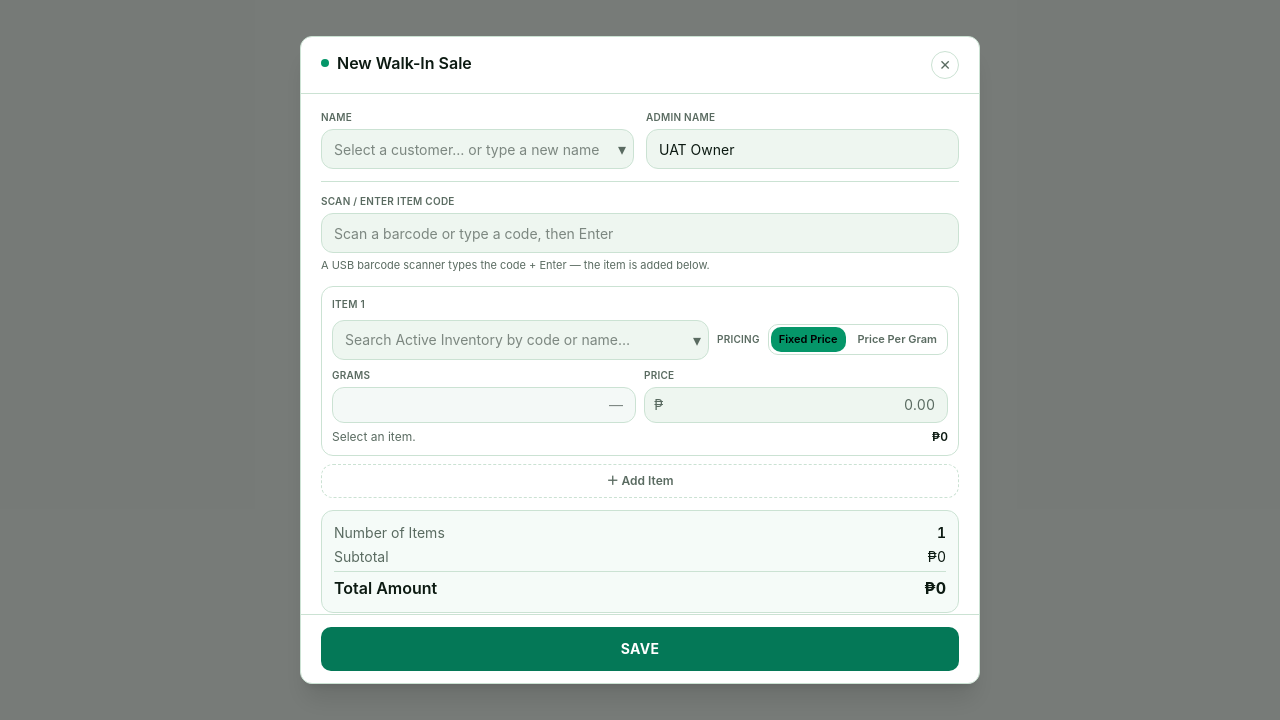
Test: NewOrderWorkflow — multi-item form › Walk In: HK ITEM is fixed-price at the number after "HK ITEM"
The width and height of the screenshot is (1280, 720).
Type "BNA-B-2536 K18 HK ITEM 9,600 \"16\"" into the dropdown with placeholder "Search Active Inventory by code or name…". click: (520, 340)
box: [332,320,709,360]
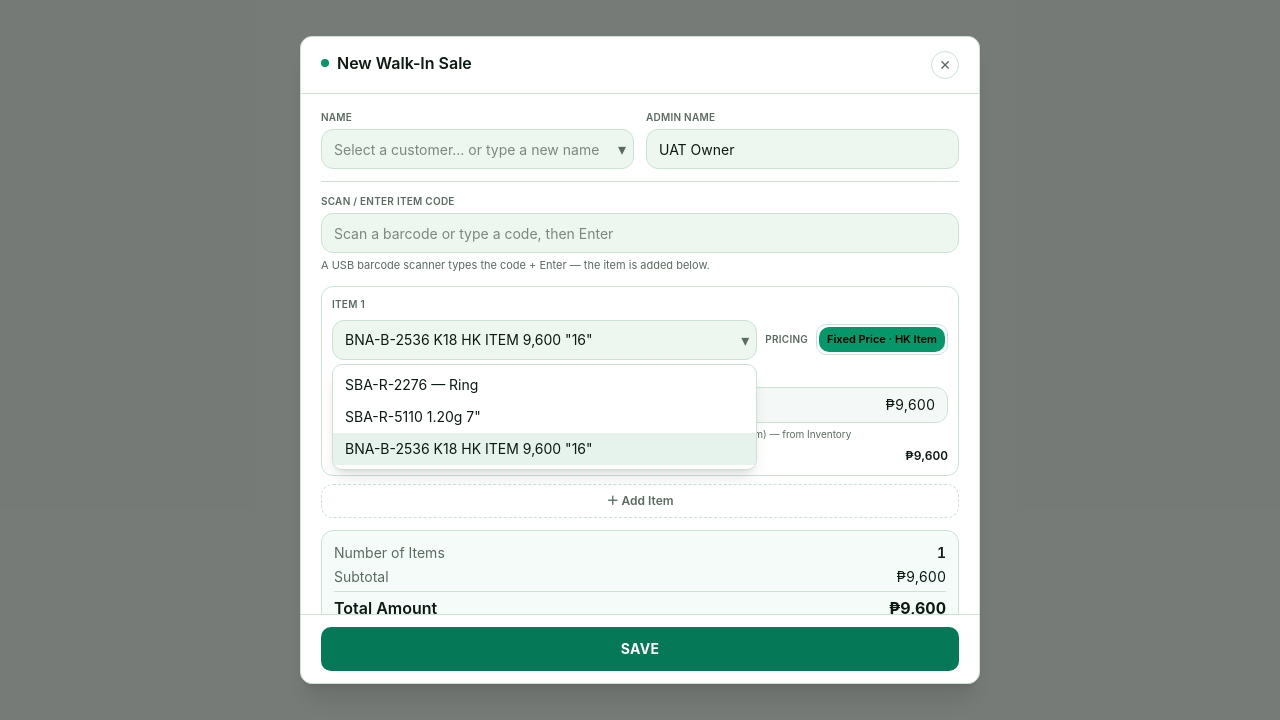
Expected: the text "Fixed Price · HK Item" is shown, [819,327,945,352]
Expected: the field with test id "order-item-price-0" holds "₱9,600", [644,386,948,422]
Expected: the text with test id "order-summary-total" reads "₱9,600", [889,598,946,614]
